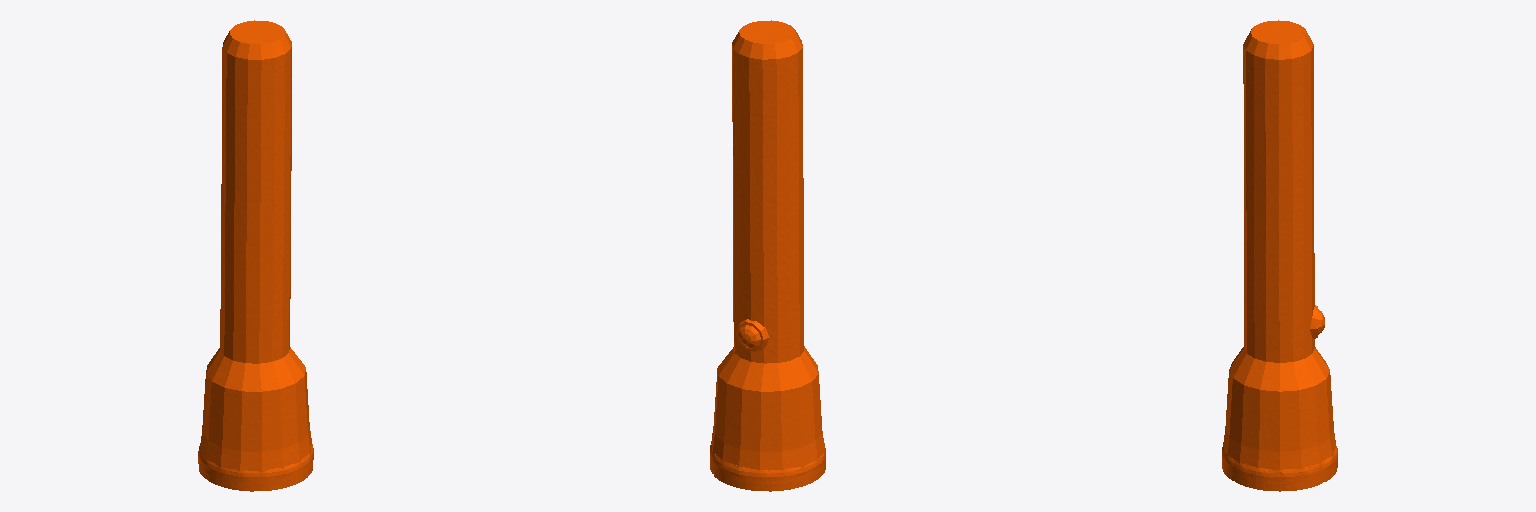
URDF robot description (flashlight):
<?xml version="1.0" ?>
<robot name="flashlight">
   <material name="obj_color">
      <color rgba="1.0 0.423529411765 0.0392156862745 1.0"/>
   </material>
   <link name="top">
      <inertial>
         <origin rpy="9.453548992500004e-06 0.000208832803509846 0.0002089983870005489" xyz="-4.735467189864051e-07 -0.0001633479444763636 -0.013783624653542"/>
         <mass value="0.1163843566522013"/>
         <inertia ixx="0.0002088943180670225" ixy="-7.903212374338045e-08" ixz="-4.524090538594433e-07" iyy="0.0002089343365513152" iyz="5.489476026826432e-07" izz="9.456084884557188e-06"/>
      </inertial>
      <visual>
         <origin rpy="0 0 0" xyz="0 0 0"/>
         <geometry>
            <mesh filename="top_watertight_tiny.stl" scale="1 1 1"/>
         </geometry>
         <material name="obj_color"/>
      </visual>
      <collision>
         <origin rpy="0 0 0" xyz="0 0 0"/>
         <geometry>
            <mesh filename="top_watertight_tiny.obj" scale="1 1 1"/>
         </geometry>
      </collision>
   </link>
   <link name="bottom">
      <inertial>
         <origin rpy="1.633333333194242e-08 1.633333333194243e-08 1.633333333357667e-08" xyz="0.3464080000000008 0.3464080000000008 0.3464080000000008"/>
         <mass value="0.0009800000000000017"/>
         <inertia ixx="1.633333333248717e-08" ixy="5.447480642029219e-19" ixz="5.447480642029219e-19" iyy="1.633333333248717e-08" iyz="5.447480642029219e-19" izz="1.633333333248717e-08"/>
      </inertial>
      <visual>
         <origin rpy="0 0 0" xyz="0 0 0"/>
         <geometry>
            <mesh filename="bottom_watertight_tiny.stl" scale="1 1 1"/>
         </geometry>
         <material name="obj_color"/>
      </visual>
   </link>
   <joint name="rotation" type="revolute">
      <origin xyz="0 0 0"/>
      <axis xyz="0 0 -1"/>
      <parent link="bottom"/>
      <child link="top"/>
      <dynamics damping="1.0" friction="1.0"/>
      <limit effort="0.1" velocity="0.1" lower="0" upper="0.001"/>
   </joint>
</robot>

--- Render facts (derived) ---
3 views of the same robot in one strip: view 1: azimuth 30°, elevation 25°; view 2: azimuth 150°, elevation 25°; view 3: azimuth 270°, elevation 25° (orthographic).
Robot: flashlight — 2 links, 1 joints (1 revolute); root link bottom; default pose: all joints at 0.
Visible links, largest first — view 1: top; view 2: top; view 3: top.
Link boxes in pixels (bbox=[...]): top: bbox=[198, 20, 313, 491]; top: bbox=[710, 20, 825, 491]; top: bbox=[1222, 20, 1337, 491].
Size in the robot's own frame: 0.0337 by 0.0338 by 0.139 metres.
1 mesh visuals loaded from 2 distinct referenced files (1 binary STL); not drawn: 1 (reference not matched to a file when rendering).
